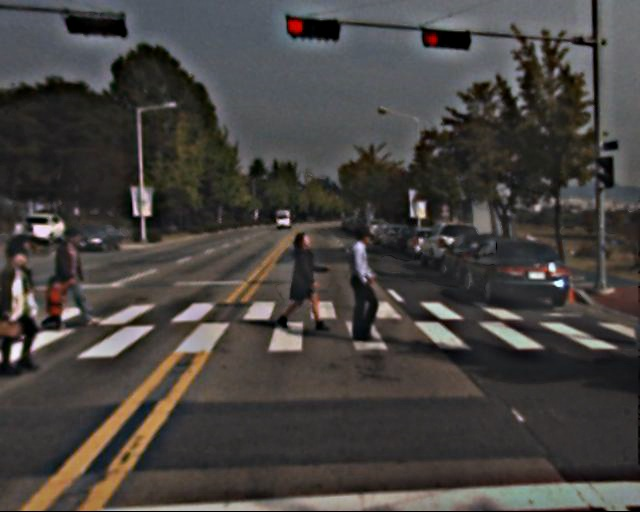person: (336, 228, 383, 343), (53, 227, 94, 328), (284, 231, 325, 332)
